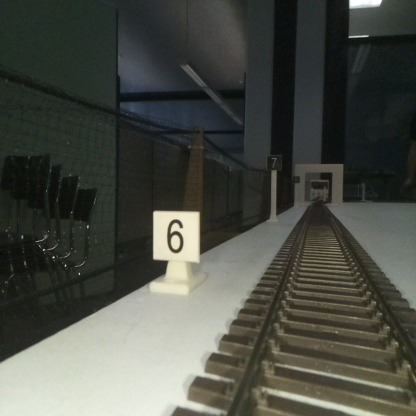black-info-7: (266, 155, 281, 220)
white-stop-6: (153, 212, 198, 291)
